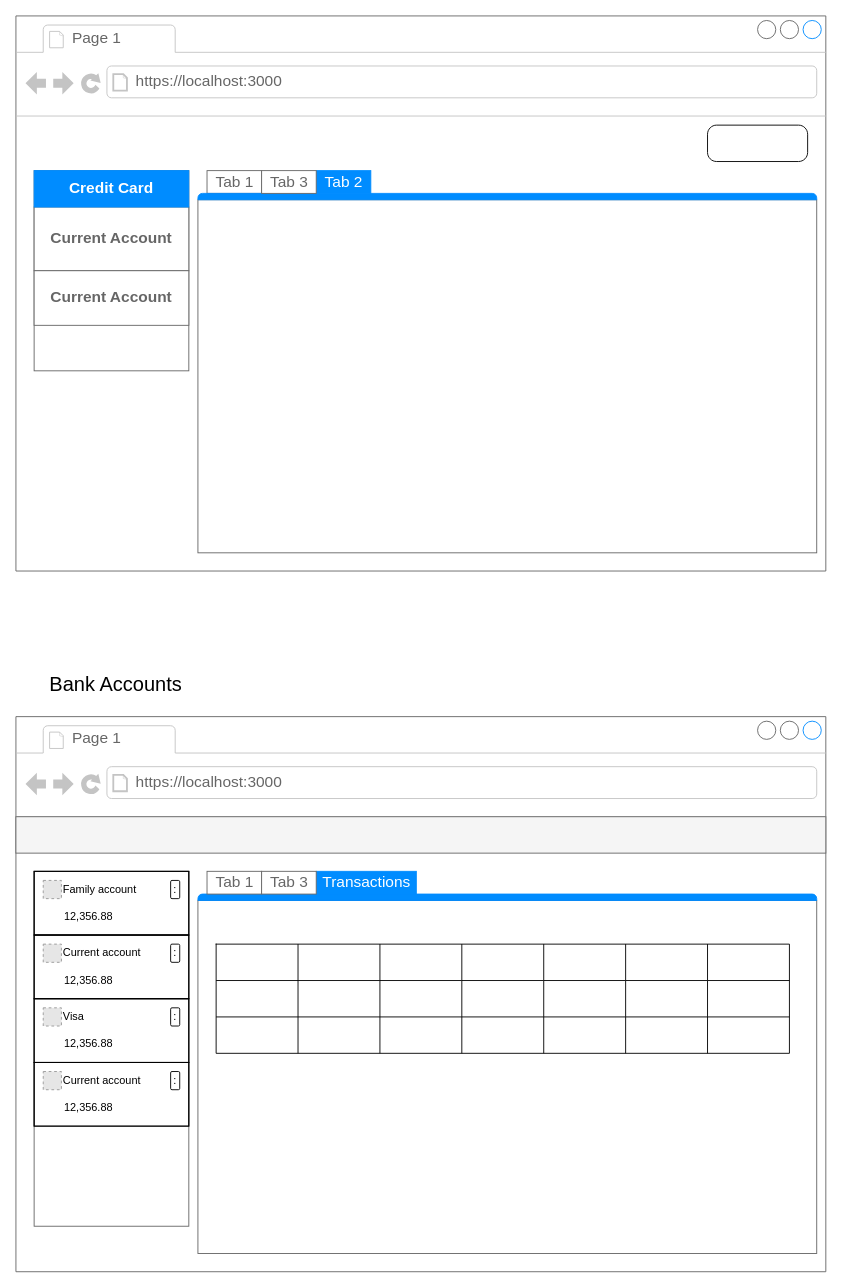
Some shapes in this 842 by 1288 pixel diagram are drawn without their labels. Grey dashed boxes stand in for pictures. Here are the shapes that lost their labels. From the top down, the box of each, then its label:
(707, 124, 808, 162): Button Text
(15, 816, 826, 853): Cashflow
